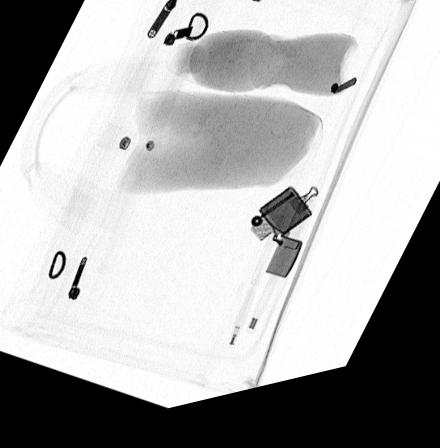Lighter: (248, 199, 312, 292)
